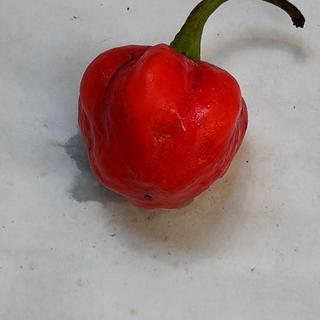Grade-B: (67, 34, 252, 210)
